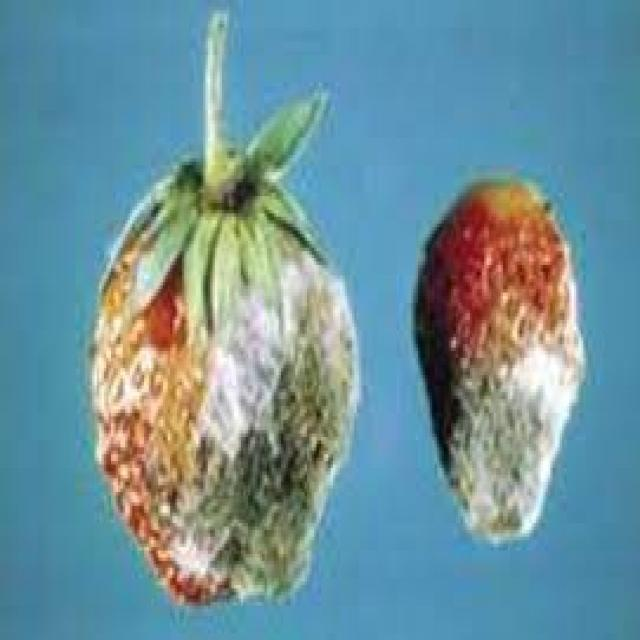Moho gris: (82, 170, 364, 612), (417, 177, 593, 547)
